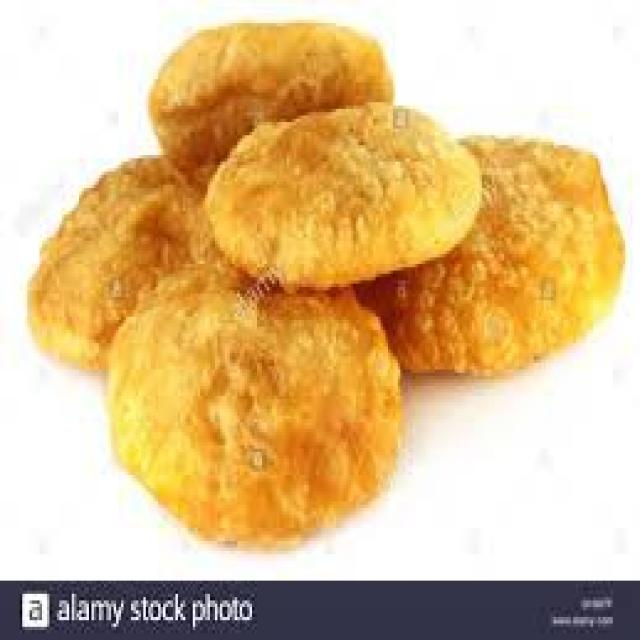puri: (43, 53, 608, 522)
